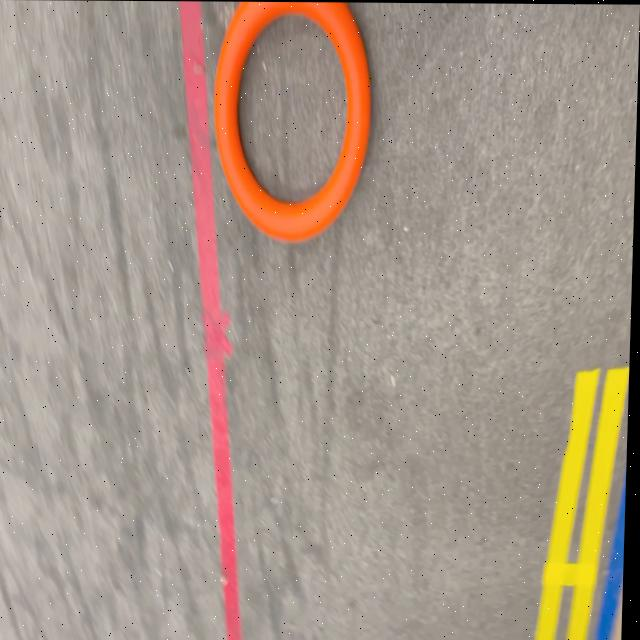note: (212, 1, 374, 241)
